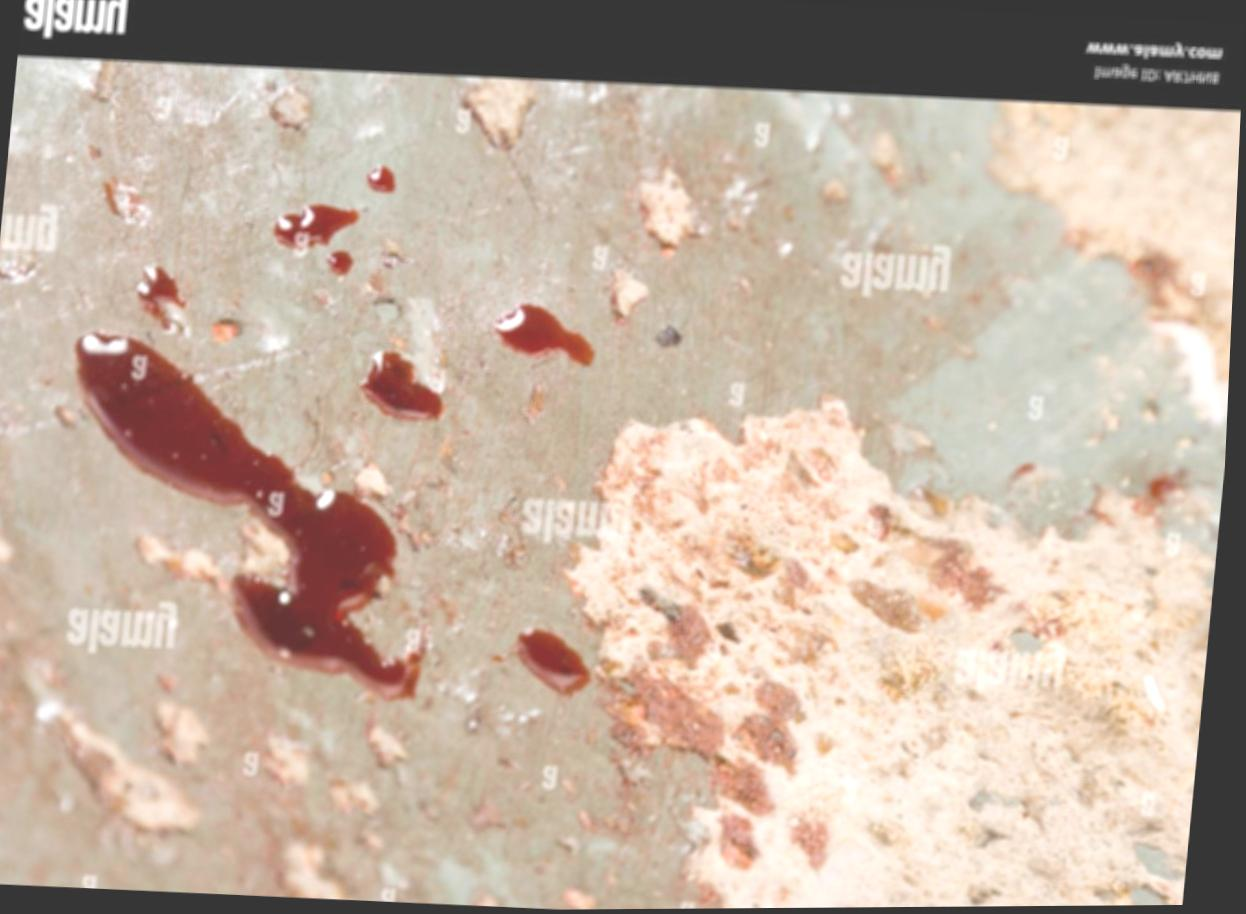Fire: (77, 332, 432, 702), (494, 305, 599, 366), (364, 353, 447, 422), (517, 631, 596, 698), (275, 204, 360, 250), (141, 269, 190, 331), (368, 166, 397, 194), (328, 252, 356, 276)
